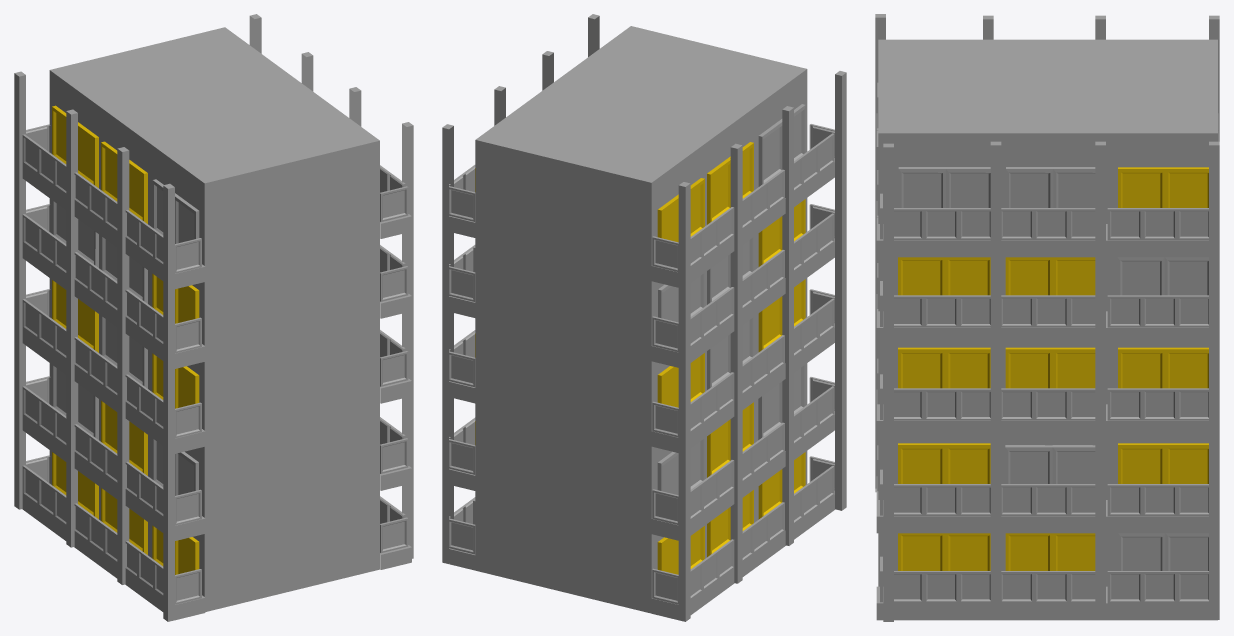
Rendered from appartment_NoRoof_NoSide.fbx.
3 views of the same model, side by side, from view 1: azimuth 30°, elevation 25°; view 2: azimuth 150°, elevation 25°; view 3: azimuth 270°, elevation 25° (orthographic). The views are drawn at different scales.
Parts seen in each view (by area): view 1: polySurface2825; view 2: polySurface2825; view 3: polySurface2825.
Boxes of the visible parts, x1,y1,x2,y2 form: polySurface2825: [14, 14, 413, 621]; polySurface2825: [442, 14, 846, 621]; polySurface2825: [875, 14, 1219, 621].
Size of the model in its own units: 576 by 957 by 628.
